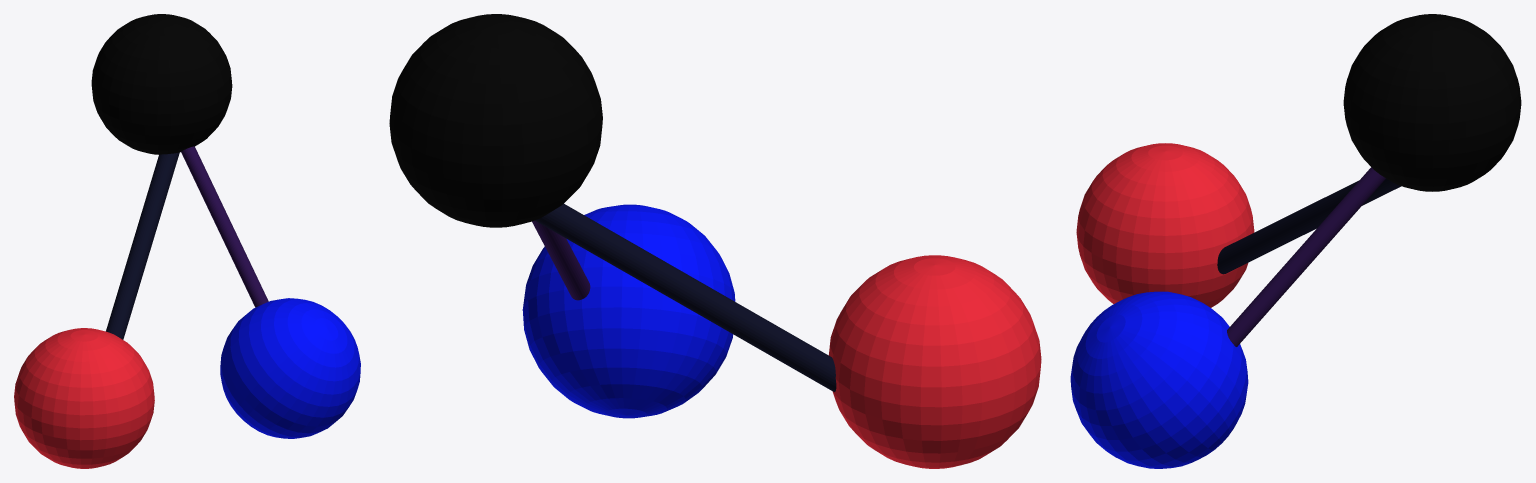
The model's file is molecule1.glb.
3 renders of one model, left to right at view 1: azimuth 30°, elevation 25°; view 2: azimuth 150°, elevation 25°; view 3: azimuth 270°, elevation 25°, orthographic. The views are drawn at different scales.
Visible parts, largest first — view 1: Sphère, Sphère.001, Sphère.002, Cylindre, Cylindre.001; view 2: Sphère.002, Sphère, Sphère.001, Cylindre, Cylindre.001; view 3: Sphère.002, Sphère.001, Sphère, Cylindre.001, Cylindre.
Part boxes in pixels (left/top/right/bottom): Sphère: left=14, top=328, right=154, bottom=468; Sphère.001: left=220, top=298, right=360, bottom=438; Sphère.002: left=91, top=14, right=232, bottom=154; Cylindre: left=106, top=152, right=179, bottom=339; Cylindre.001: left=181, top=146, right=268, bottom=307; Sphère.002: left=389, top=14, right=602, bottom=227; Sphère: left=828, top=255, right=1041, bottom=468; Sphère.001: left=522, top=204, right=735, bottom=418; Cylindre: left=535, top=203, right=836, bottom=391; Cylindre.001: left=532, top=220, right=590, bottom=300; Sphère.002: left=1343, top=14, right=1521, bottom=191; Sphère.001: left=1070, top=291, right=1248, bottom=468; Sphère: left=1076, top=143, right=1254, bottom=307; Cylindre.001: left=1227, top=167, right=1385, bottom=346; Cylindre: left=1217, top=178, right=1401, bottom=274.
Size of the model in its own units: 5.33 by 5.28 by 5.07.
